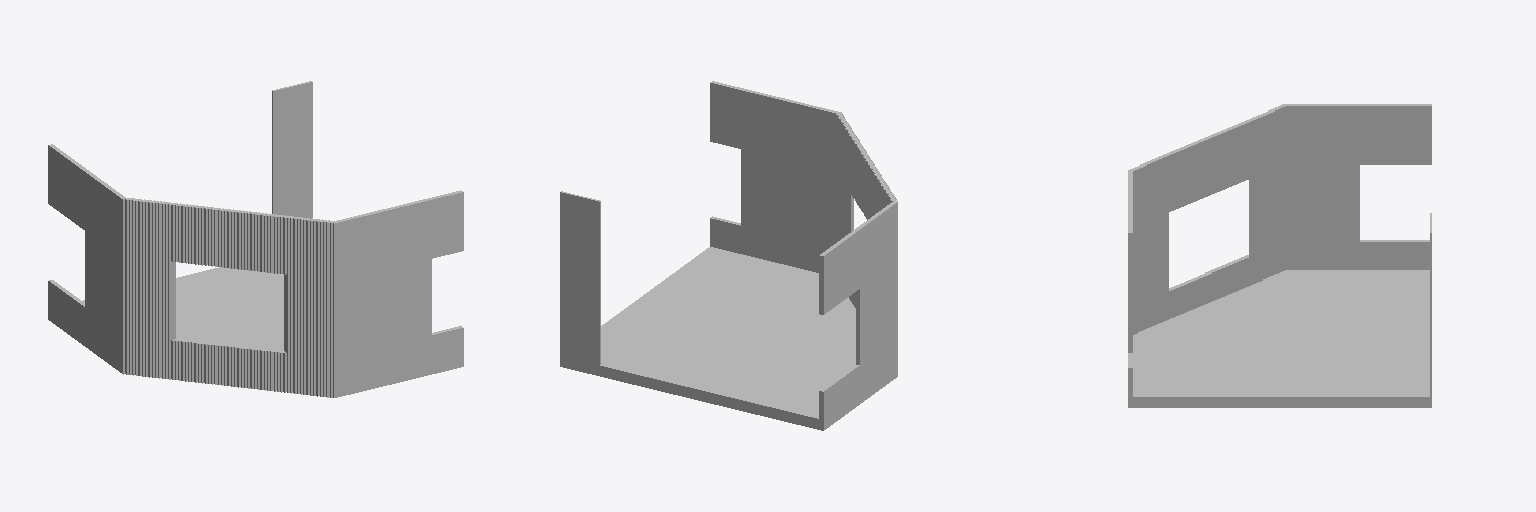
File: 4x2 second-1.obj
3 views of the same model, side by side, from view 1: azimuth 30°, elevation 25°; view 2: azimuth 150°, elevation 25°; view 3: azimuth 270°, elevation 25° (orthographic).
Parts seen in each view (by area): view 1: 4x2 second-1; view 2: 4x2 second-1; view 3: 4x2 second-1.
Boxes of the visible parts, x1=… form: 4x2 second-1: x1=48, y1=81, x2=463, y2=397; 4x2 second-1: x1=560, y1=81, x2=897, y2=430; 4x2 second-1: x1=1128, y1=104, x2=1431, y2=407.
Size of the model in its own units: 126 by 80 by 126.